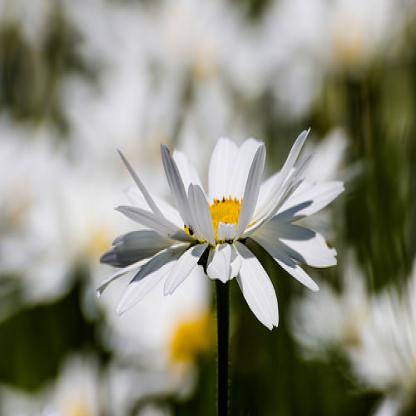ASTER: (78, 51, 399, 368)
